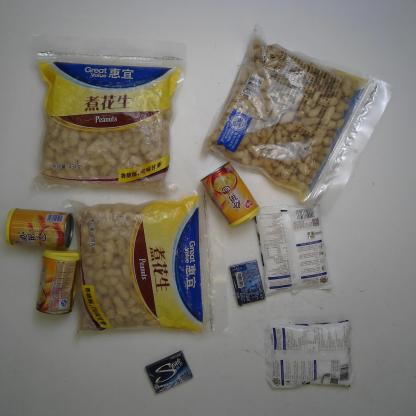Canned Food: (199, 159, 260, 227), (5, 204, 74, 251), (34, 250, 80, 315)
Dried Food: (200, 22, 396, 217), (28, 30, 188, 195), (58, 190, 229, 337)
Gum: (144, 349, 193, 395), (229, 259, 266, 306)
Seasoner: (254, 201, 334, 298), (263, 319, 355, 391)
